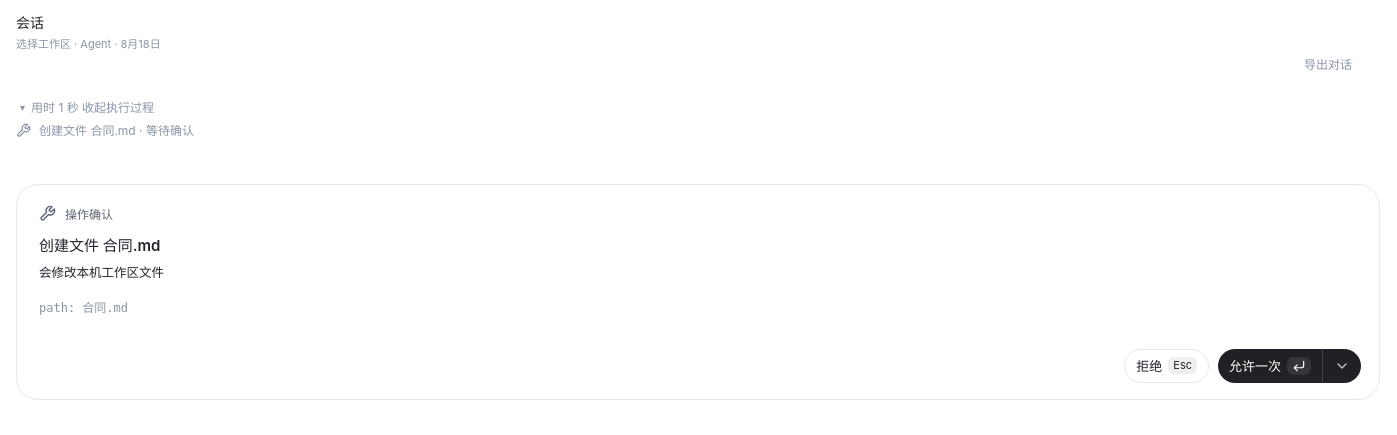
it: workspace maps approval_not_pending approval failures to stable Chinese guidance
Click the button "允许一次".
click(1270, 366)  # box [1218,349,1322,383]
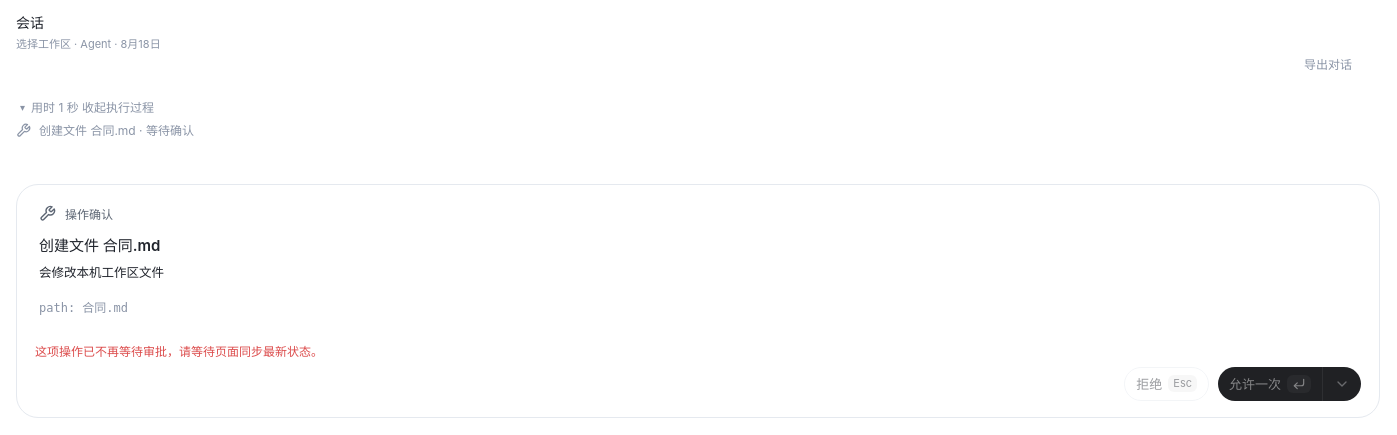
Now the message reads "这项操作已不再等待审批，请等待页面同步最新状态。", box [35,344,323,359]
Now the button "允许一次" is disabled, box [1218,367,1322,401]
